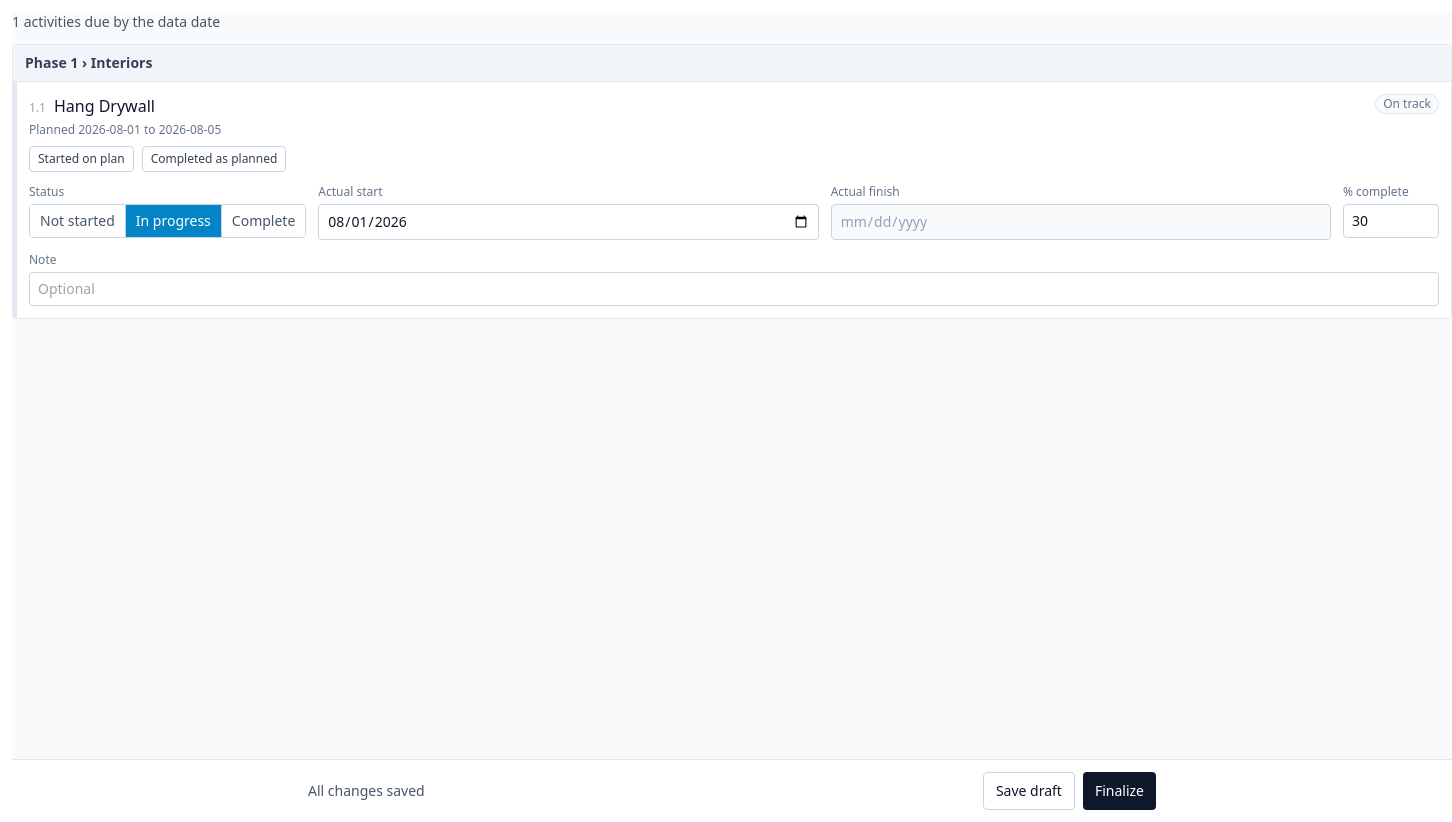
Test case: LookaheadUpdateForm › Not started clears and disables the actuals
The image size is (1452, 822).
Click the button "Not started". click: (78, 221)
box: [30,205,126,237]
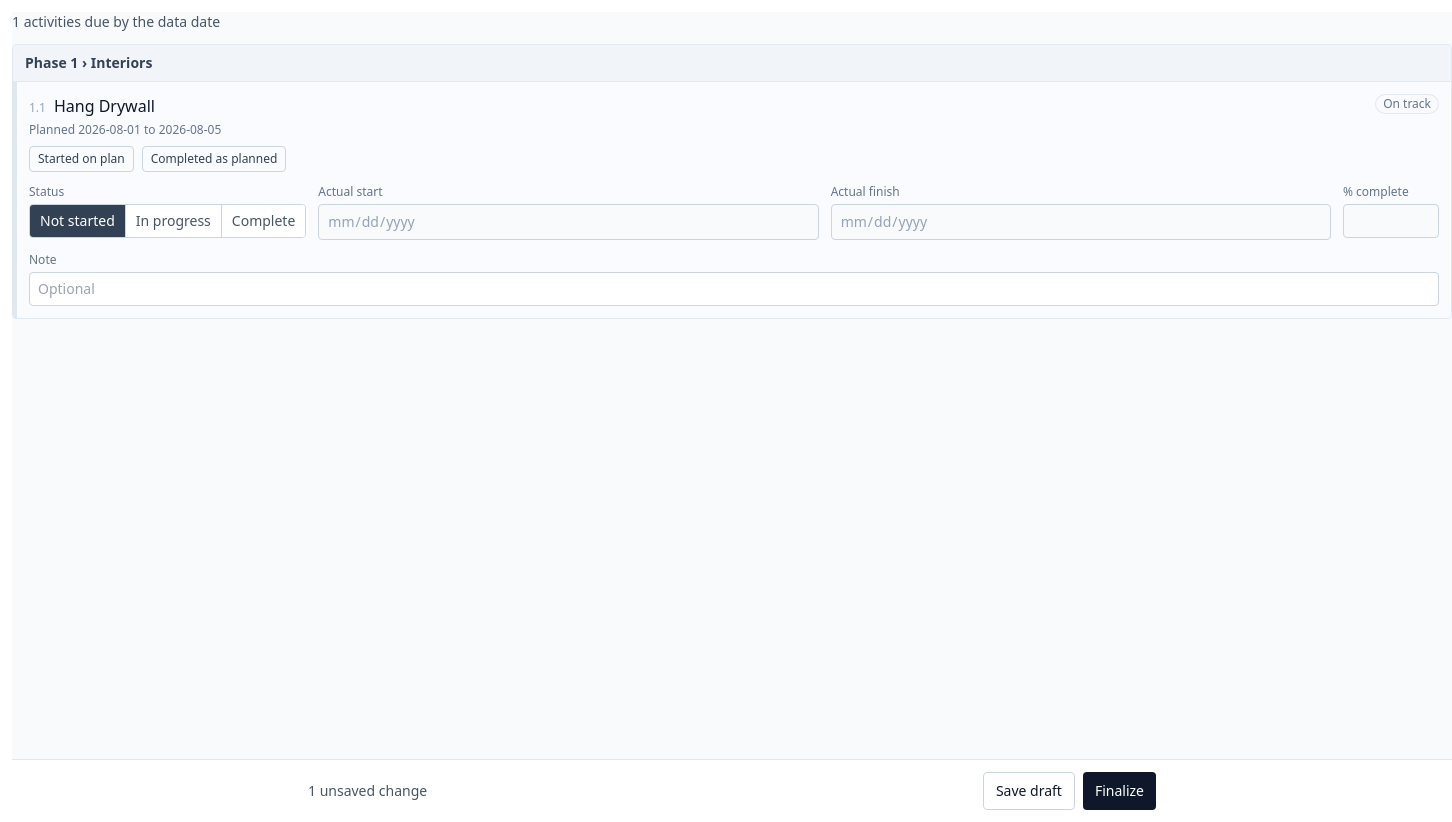
Result: the date field labelled "Actual start" is empty at [318,204,819,240]
Result: the date field labelled "Actual start" is disabled at [318,204,819,240]
Result: the number field labelled "% complete" is empty at [1343,204,1439,238]
